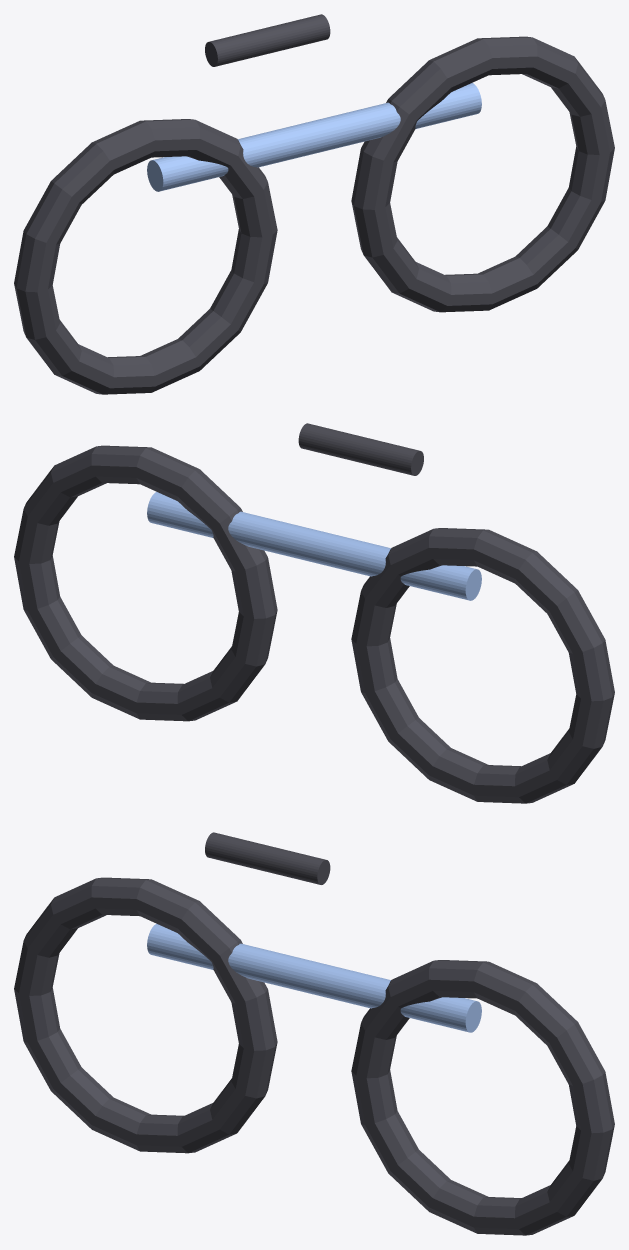
File: pickup.bike.v1.glb
3 renders of one model, top to bottom at view 1: azimuth 30°, elevation 25°; view 2: azimuth 150°, elevation 25°; view 3: azimuth 330°, elevation 25°, orthographic.
Visible parts, largest first — view 1: pickup.bike.v1_wheel_b, pickup.bike.v1_wheel_f, pickup.bike.v1_frame, pickup.bike.v1_seat; view 2: pickup.bike.v1_wheel_b, pickup.bike.v1_wheel_f, pickup.bike.v1_frame, pickup.bike.v1_seat; view 3: pickup.bike.v1_wheel_f, pickup.bike.v1_wheel_b, pickup.bike.v1_frame, pickup.bike.v1_seat.
Part boxes in pixels (x1,y1,x2,y2): pickup.bike.v1_wheel_b: (14,119,277,394); pickup.bike.v1_wheel_f: (351,36,614,312); pickup.bike.v1_frame: (147,83,481,191); pickup.bike.v1_seat: (205,14,330,66); pickup.bike.v1_wheel_b: (351,528,614,803); pickup.bike.v1_wheel_f: (14,445,277,721); pickup.bike.v1_frame: (147,492,481,600); pickup.bike.v1_seat: (298,423,423,475); pickup.bike.v1_wheel_f: (351,960,614,1235); pickup.bike.v1_wheel_b: (14,877,277,1153); pickup.bike.v1_frame: (147,923,481,1032); pickup.bike.v1_seat: (205,832,330,884).
Size of the model in its own units: 0.636 by 0.34 by 0.0342.
